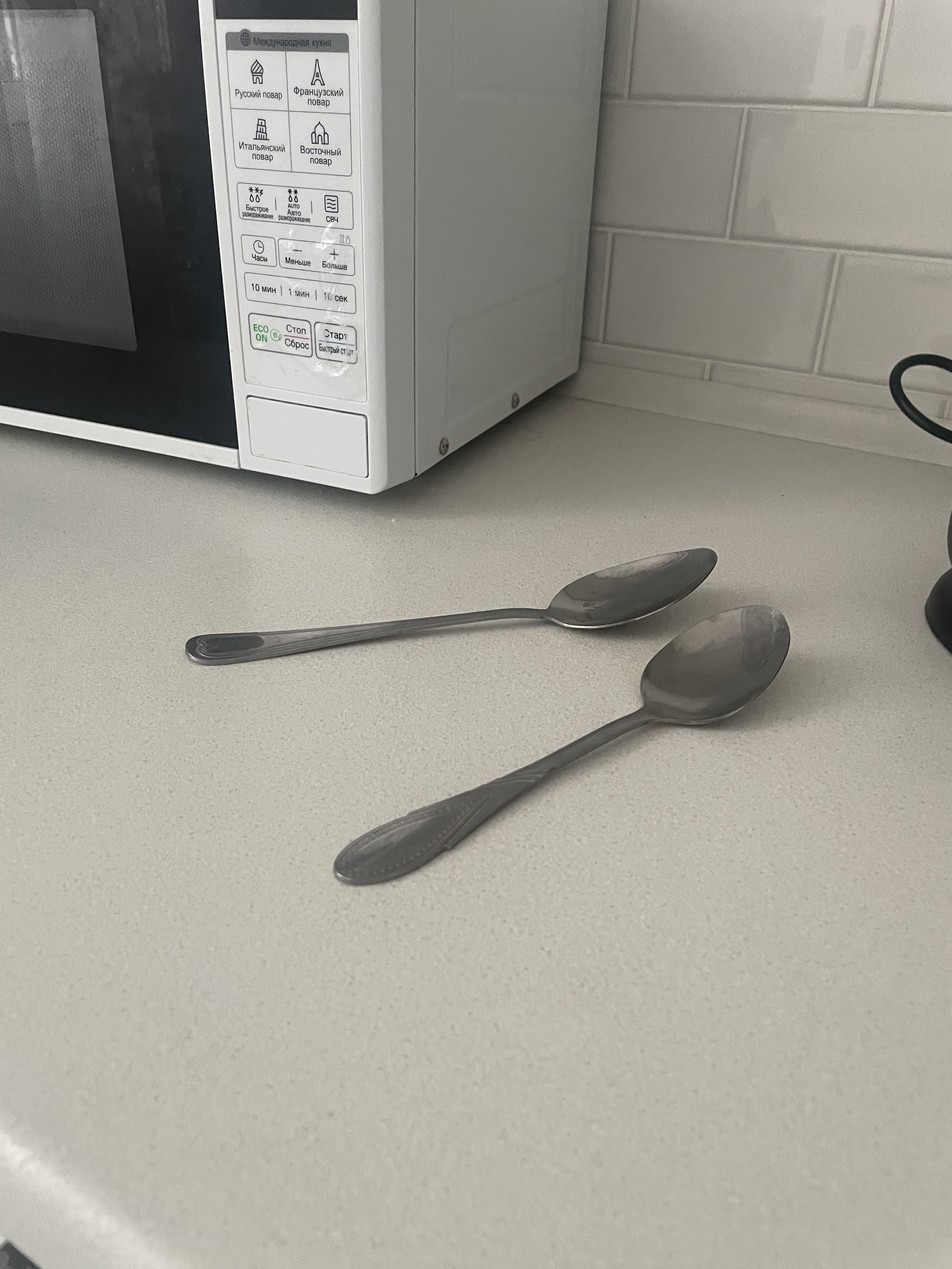spoon: (334, 605, 790, 885), (186, 548, 717, 665)
